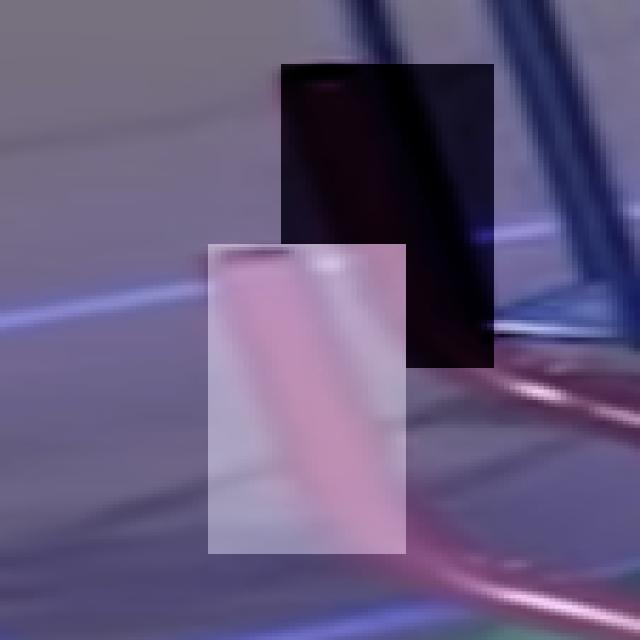Reef: (281, 64, 494, 368), (208, 244, 406, 554)
